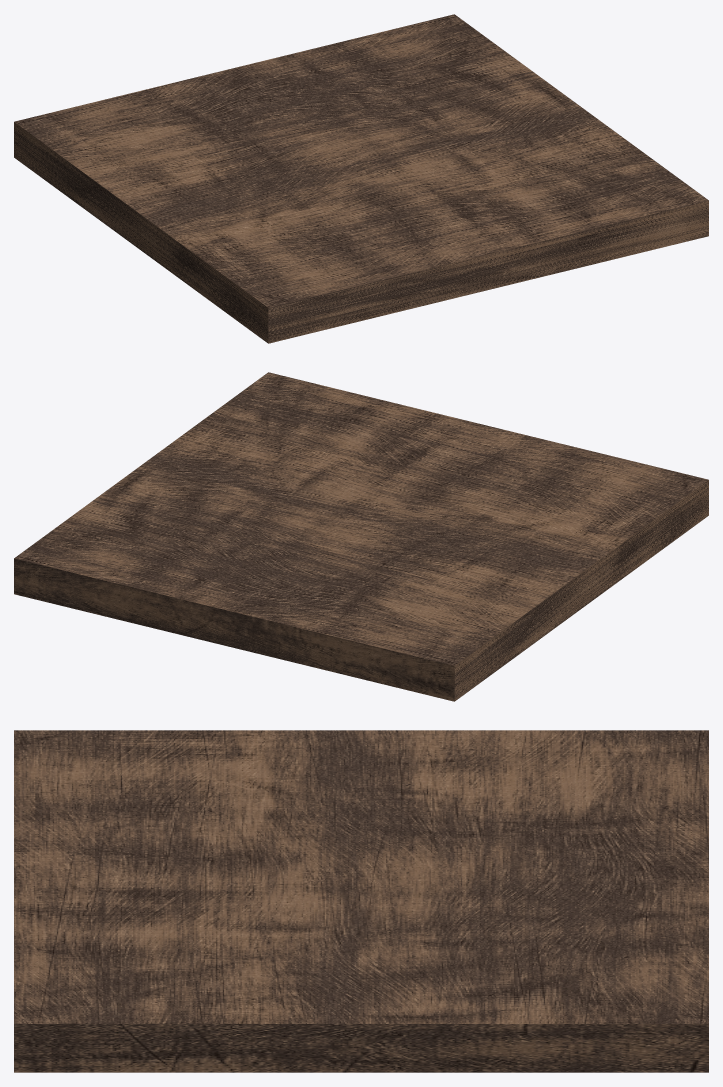
Rendered from Wood.glb.
3 renders of one model, top to bottom at view 1: azimuth 30°, elevation 25°; view 2: azimuth 150°, elevation 25°; view 3: azimuth 270°, elevation 25°, orthographic. The views are drawn at different scales.
Parts seen in each view (by area): view 1: Wood; view 2: Wood; view 3: Wood.
Boxes of the visible parts, x1,y1,x2,y2 form: Wood: (14, 14, 708, 343); Wood: (14, 372, 708, 701); Wood: (14, 730, 708, 1072).
Bounding box in the file's own units: 4.01 × 0.3115 × 4.01.
Materials: 1 (1 with a texture image).
